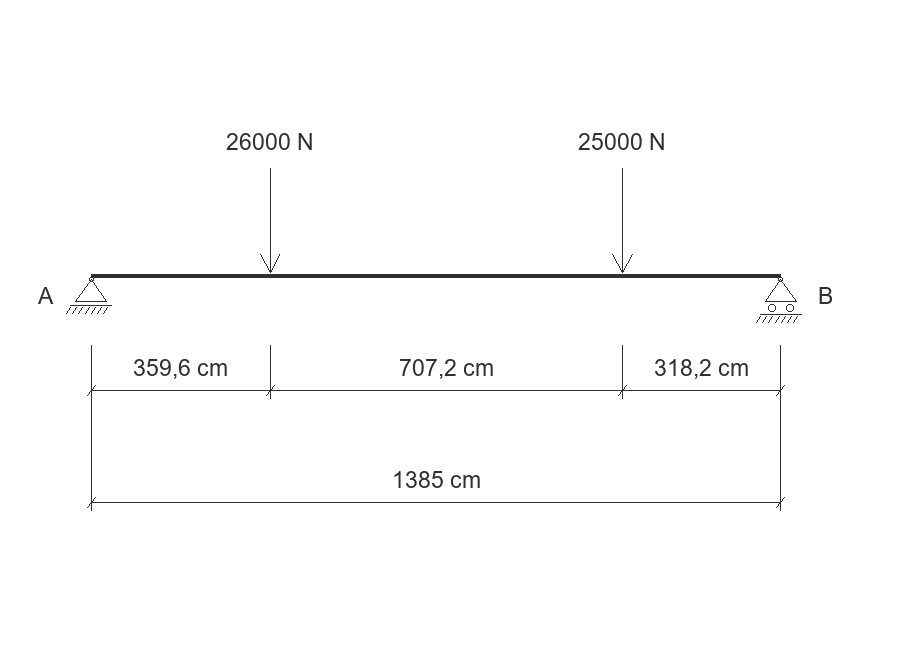pin_support: (66, 277, 112, 314)
point_load: (612, 168, 633, 273), (260, 168, 280, 273)
roller_support: (756, 277, 802, 323)
